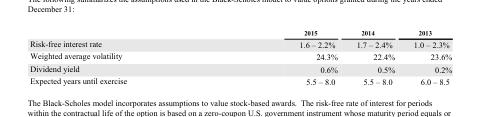table: (29, 28, 451, 85)
table column: (29, 28, 212, 85), (212, 28, 346, 85), (346, 28, 403, 85), (403, 28, 451, 85)
table column header: (29, 28, 451, 37)
table row: (29, 49, 451, 62), (29, 37, 451, 49), (29, 62, 451, 74), (29, 74, 451, 85), (29, 28, 451, 37)
